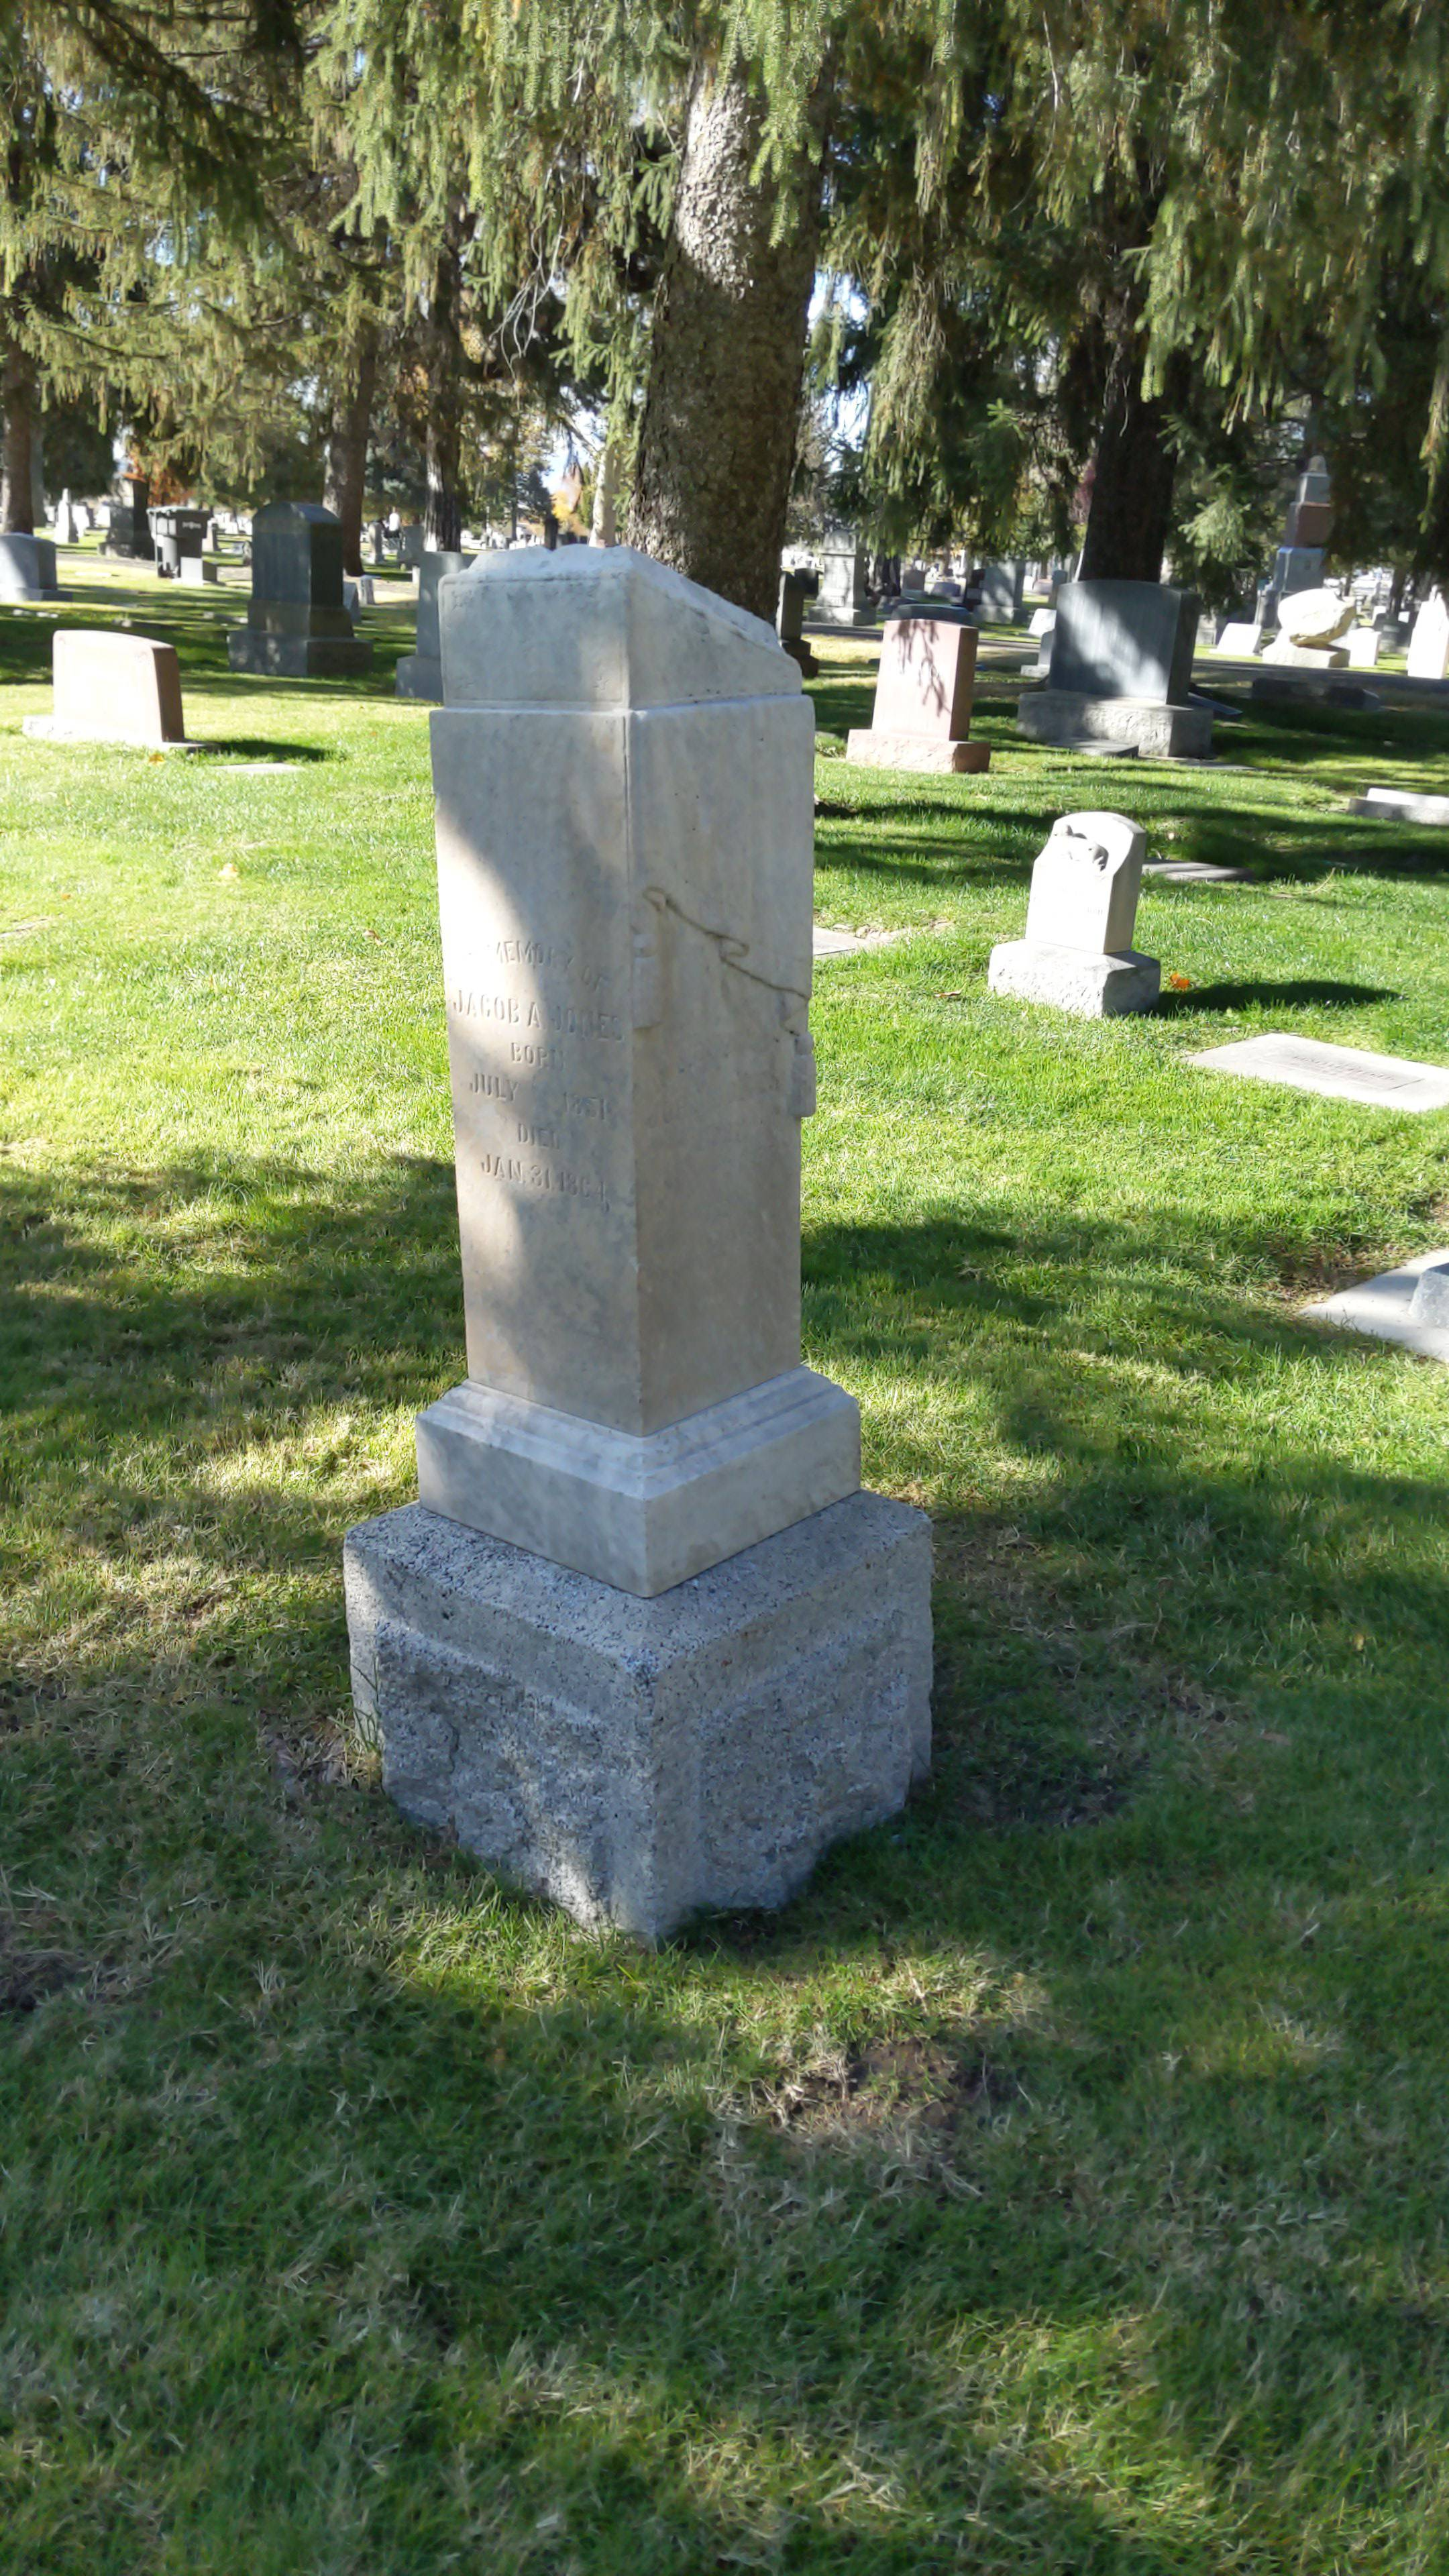obelisk: (416, 531, 858, 1591)
